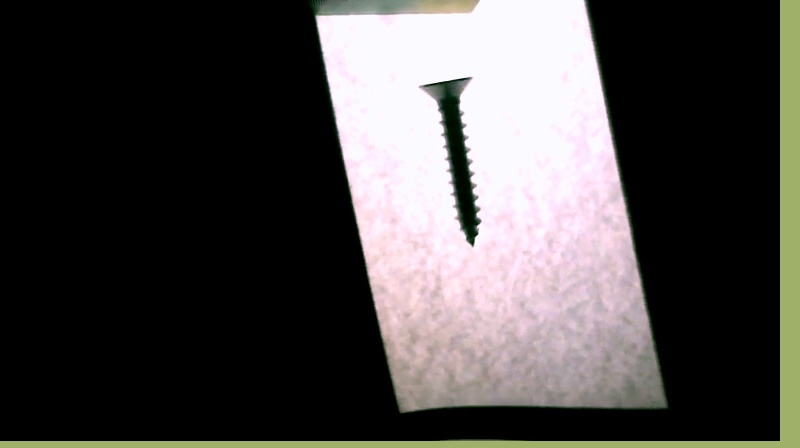S001: (412, 73, 486, 247)
